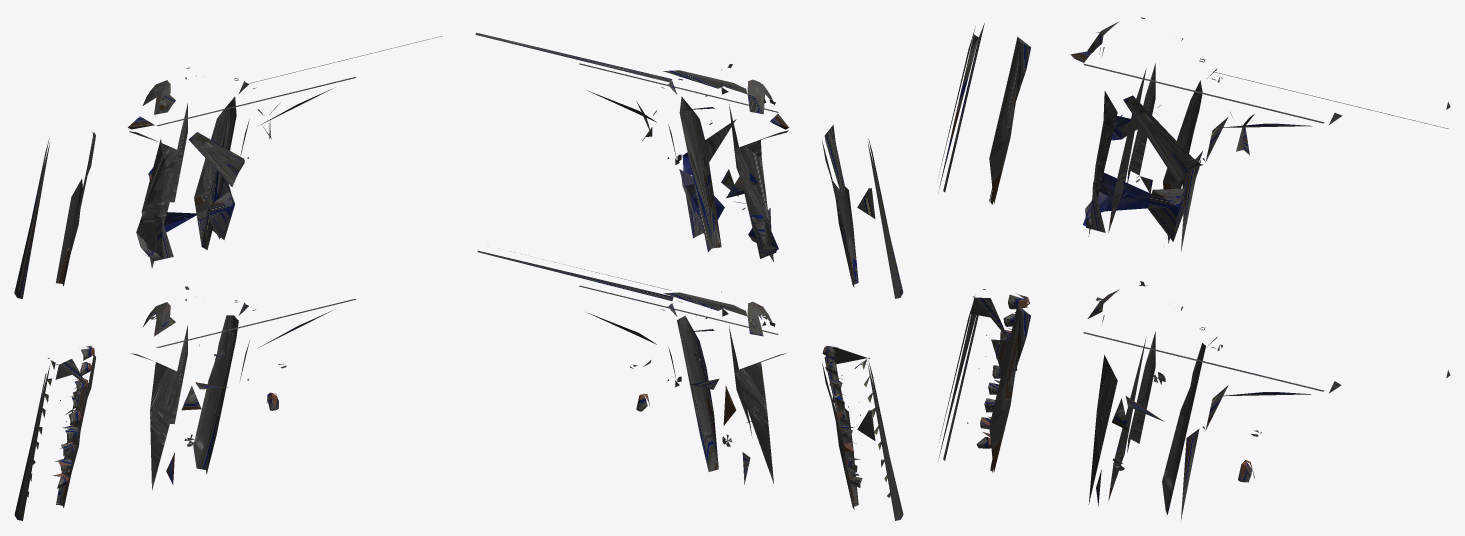
File: pistol.glb
3 renders of one model, left to right at view 1: azimuth 30°, elevation 25°; view 2: azimuth 150°, elevation 25°; view 3: azimuth 330°, elevation 25°, orthographic. The views are drawn at different scales.
Visible parts, largest first — view 1: pistol_3, pistol_10, pistol_8, pistol_7, pistol_2, pistol_9; view 2: pistol_3, pistol_10, pistol_8, pistol_7, pistol_2, pistol_9; view 3: pistol_3, pistol_10, pistol_8, pistol_7, pistol_9, pistol_2.
Part boxes in pixels (x1,y1,x2,y2): pistol_3: (128,36,442,268); pistol_10: (131,302,334,490); pistol_8: (14,346,95,520); pistol_7: (14,132,95,298); pistol_2: (142,67,355,125); pistol_9: (143,286,355,347); pistol_3: (475,32,788,261); pistol_10: (477,250,786,484); pistol_8: (822,345,903,520); pistol_7: (822,125,903,298); pistol_2: (579,63,778,114); pistol_9: (579,285,778,336); pistol_3: (1070,51,1450,251); pistol_10: (1088,331,1450,519); pistol_8: (938,289,1030,472); pistol_7: (938,23,1030,204); pistol_9: (1083,281,1324,391); pistol_2: (1083,17,1324,123).
Bounding box in the file's own units: 0.3009 × 0.2795 × 0.0312.
1 material, 1 textured.
